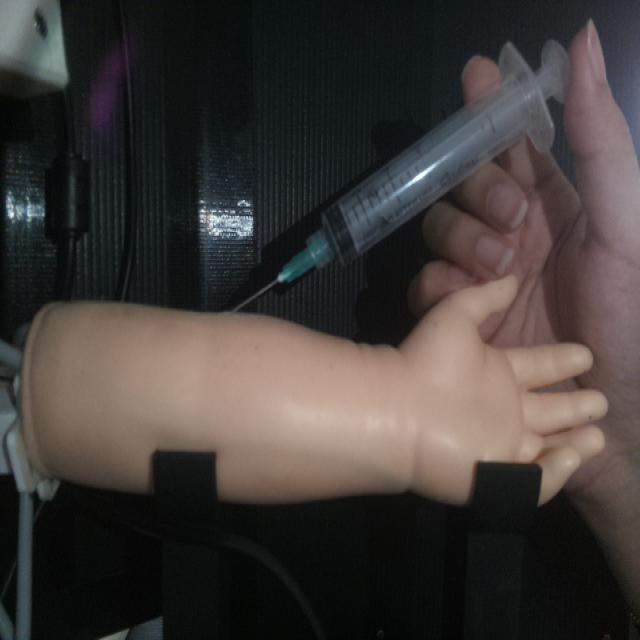Above 30 degrees: (226, 35, 571, 313)
